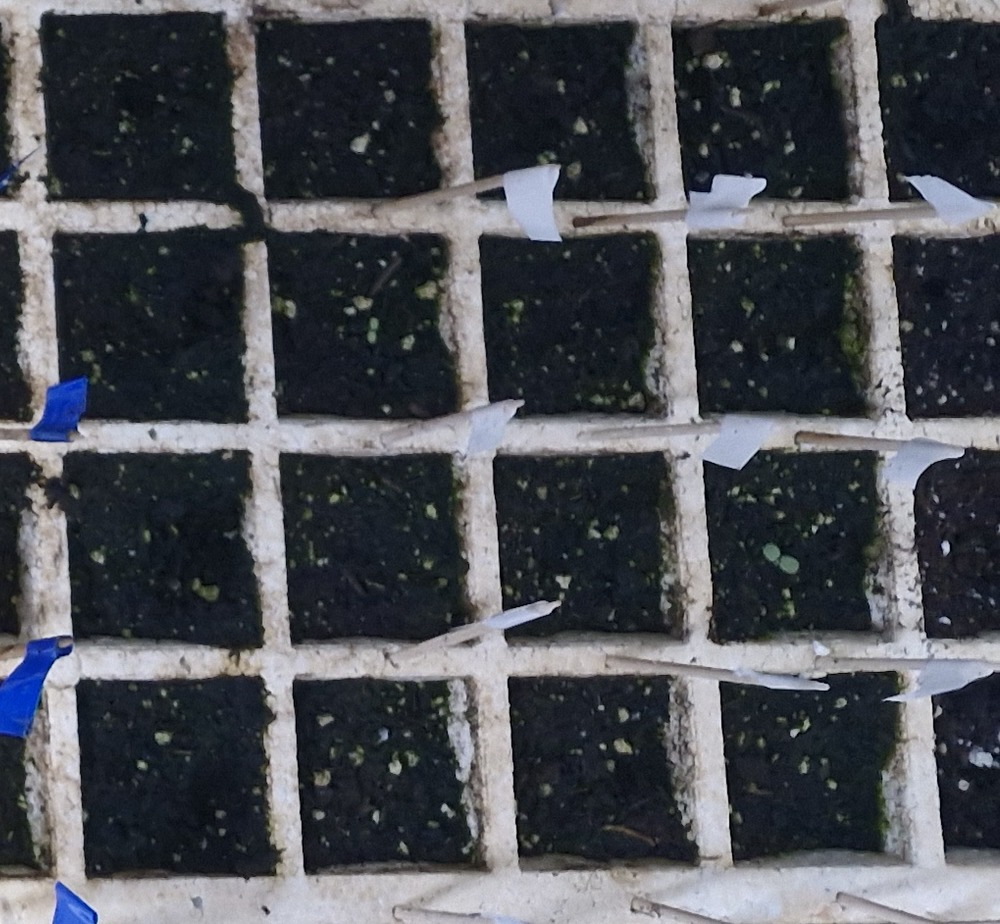Folha: (781, 556, 798, 573), (763, 544, 781, 560)
Germinacao: (763, 544, 799, 574), (368, 318, 379, 343)
